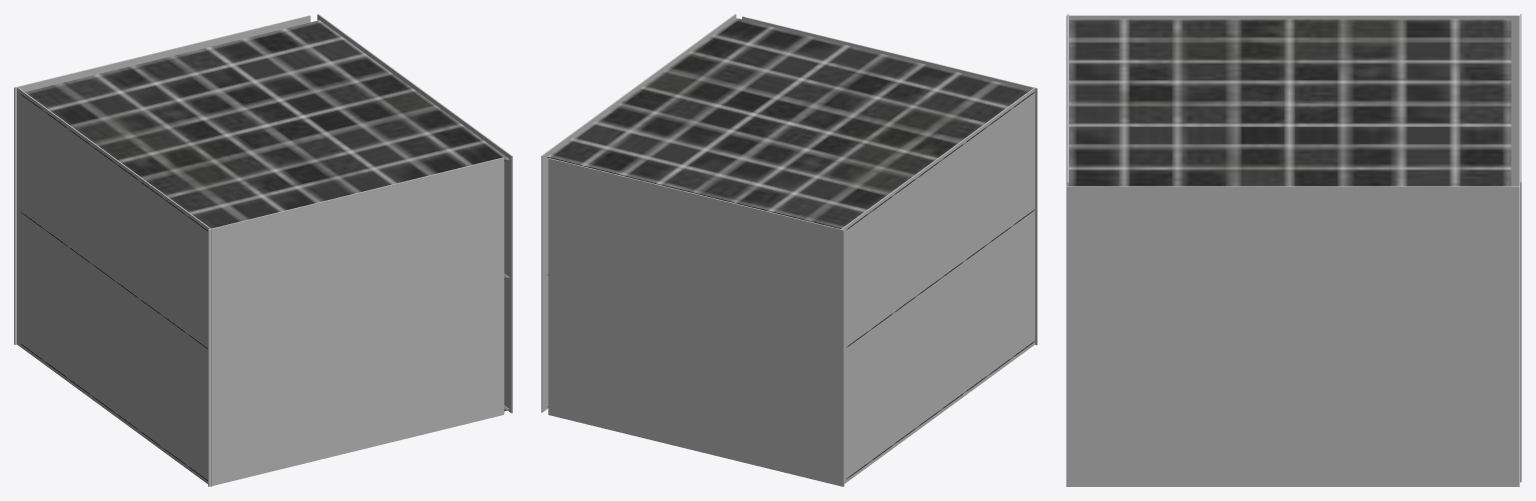
Rendered from Bowling Room.fbx.
The picture shows the model from 3 angles, left to right: view 1: azimuth 30°, elevation 25°; view 2: azimuth 150°, elevation 25°; view 3: azimuth 270°, elevation 25°; orthographic projection. The views are drawn at different scales.
Parts seen in each view (by area): view 1: pCube18, pCube20, pCube2, pCube19, pCube16; view 2: pCube16, pCube20, pCube2, pCube19, pCube18; view 3: pCube19, pCube20, pCube2, pCube16.
Part boxes in pixels (<box>): pCube18: <box>208,157,504,486</box>; pCube20: <box>20,20,509,231</box>; pCube2: <box>17,87,212,486</box>; pCube19: <box>317,14,512,413</box>; pCube16: <box>14,15,310,344</box>; pCube16: <box>548,158,844,486</box>; pCube20: <box>547,18,1035,230</box>; pCube2: <box>841,87,1035,483</box>; pCube19: <box>541,14,736,412</box>; pCube18: <box>742,16,1037,345</box>; pCube19: <box>1066,186,1519,486</box>; pCube20: <box>1068,19,1511,186</box>; pCube2: <box>1066,15,1519,186</box>; pCube16: <box>1520,14,1521,482</box>.
Bounding box in the file's own units: 267 × 216 × 297.
